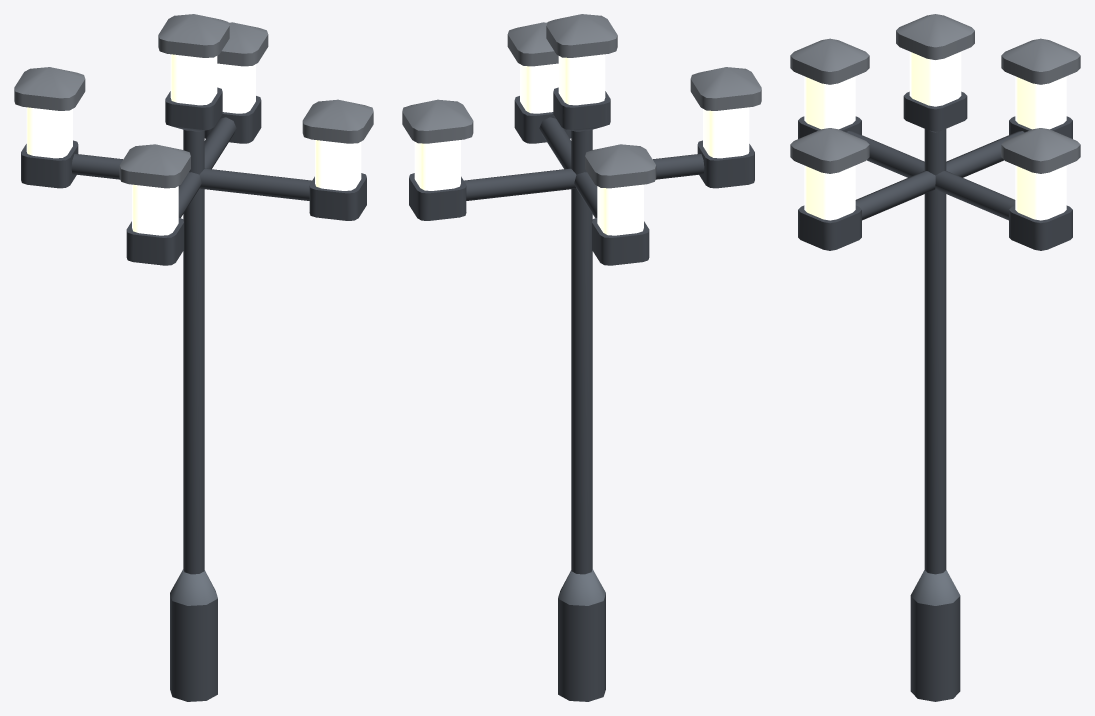
File: spotlight_02_pacote.glb
3 views of the same model, side by side, from view 1: azimuth 30°, elevation 25°; view 2: azimuth 150°, elevation 25°; view 3: azimuth 270°, elevation 25° (orthographic).
Visible parts, largest first — view 1: spotlight_02_pacote; view 2: spotlight_02_pacote; view 3: spotlight_02_pacote.
Boxes of the visible parts, x1,y1,x2,y2 form: spotlight_02_pacote: [14, 14, 373, 701]; spotlight_02_pacote: [402, 14, 761, 701]; spotlight_02_pacote: [790, 14, 1080, 701].
Bounding box in the file's own units: 2.76 × 7.1 × 2.76.
Materials: 2 (1 with a texture image).
